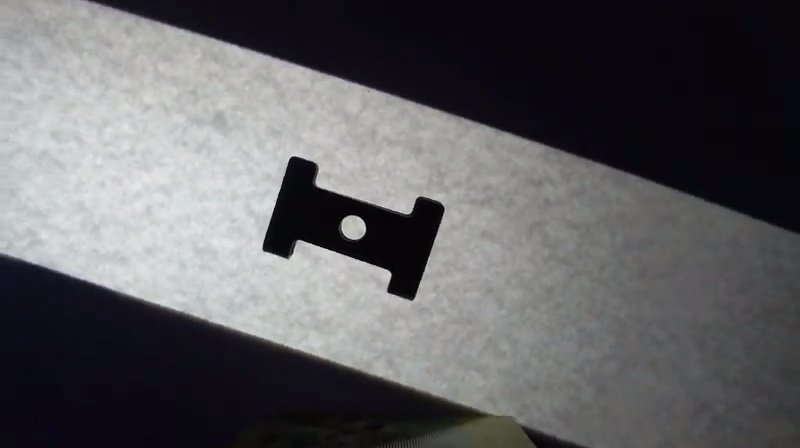O002: (259, 153, 449, 301)
